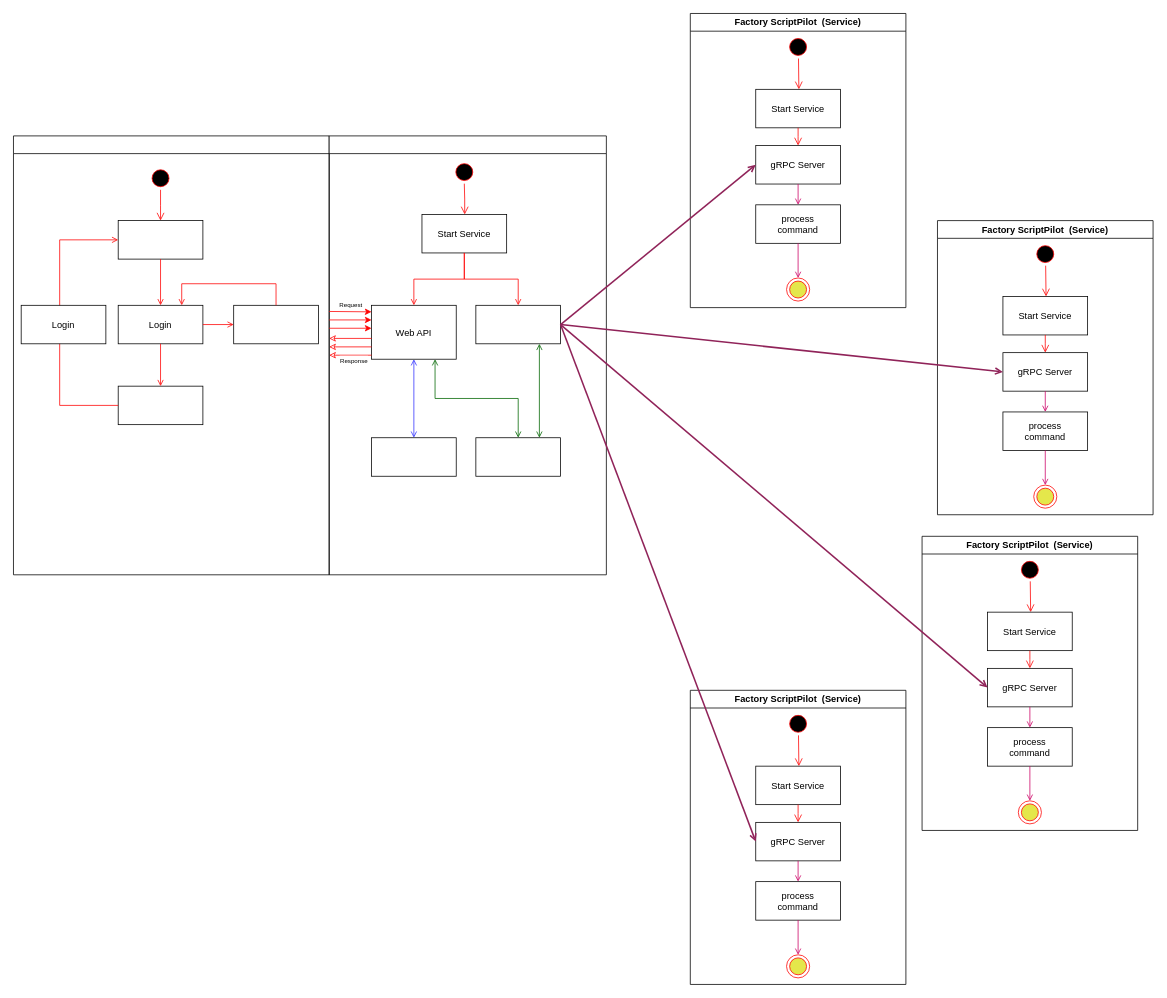
This 1167x998 diagram has some shape labels left out. Here are the shapes that lost their labels. From the top down, the box of each, then its label:
(117, 220, 203, 259): Register
(233, 305, 318, 344): Reset Password
(475, 305, 561, 344): gRPC Client
(13, 135, 329, 575): SciTaipeiToolClient (Frontend)
(328, 135, 606, 575): SciTaipeiTool (Web Backend, Service)
(117, 385, 203, 425): Script List
(371, 437, 456, 476): Login Handler
(475, 437, 561, 476): Task Handler
